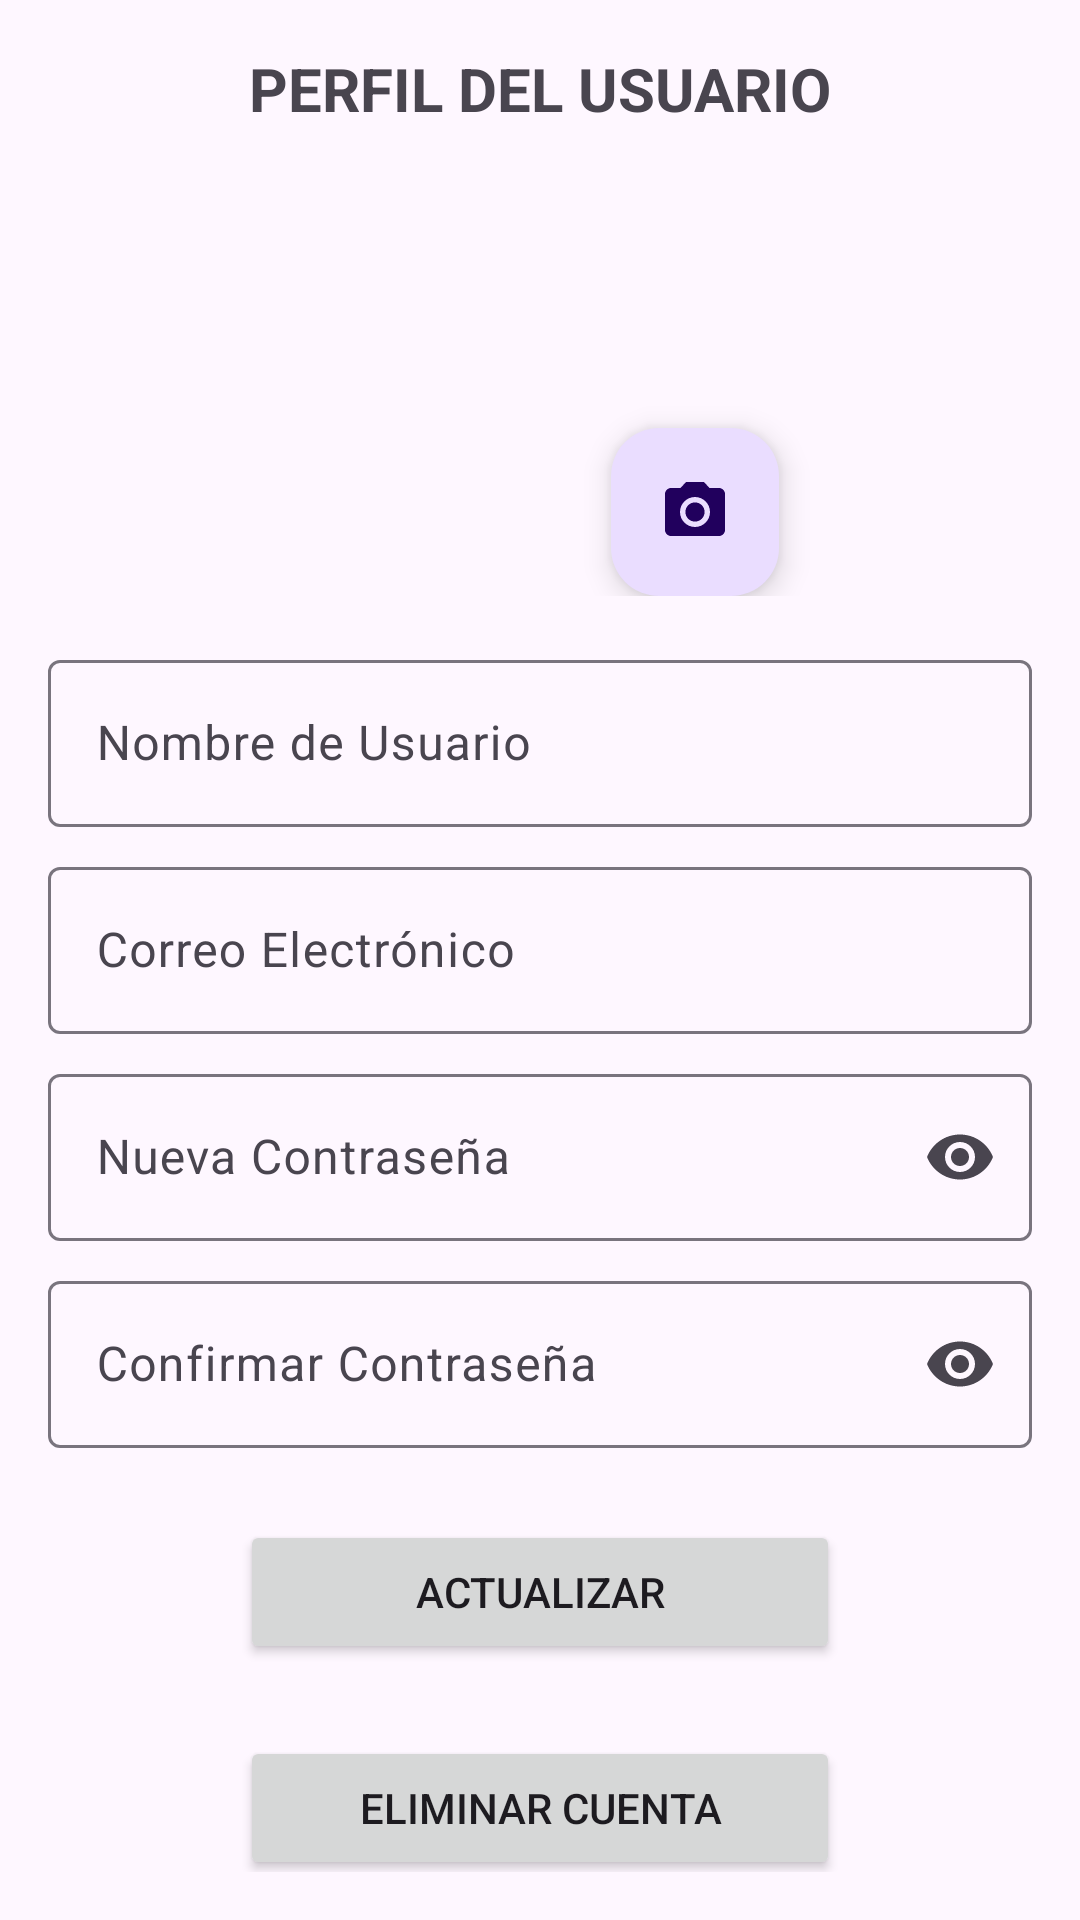

Locate icon controls on the screen. Image size 1080 × 1920, boxes as (x1, y1, x2, y2).
Tomar foto: (611, 428, 779, 596)
